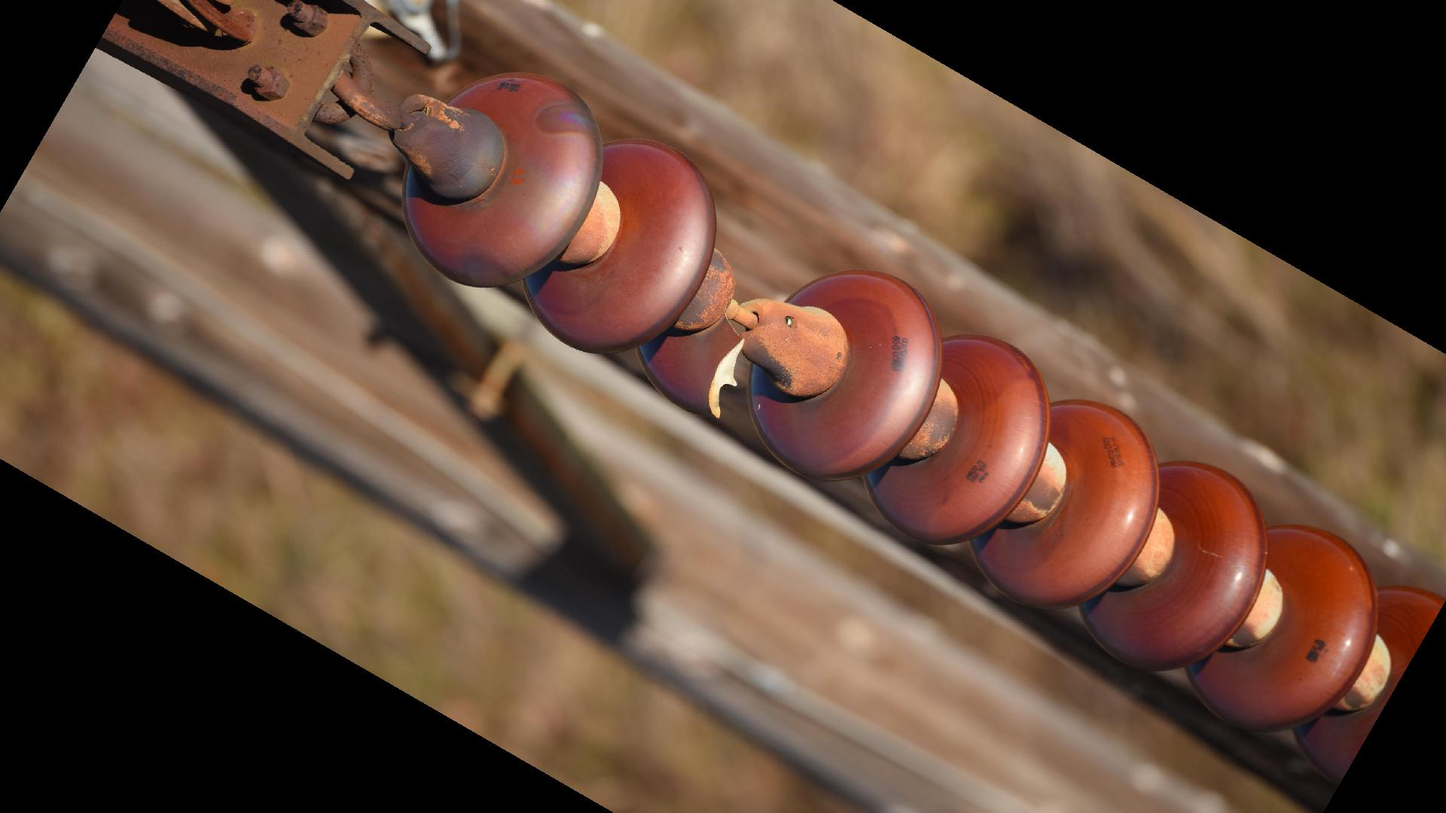insulator: (393, 65, 1446, 774)
insulator_breakage: (677, 306, 766, 427)
